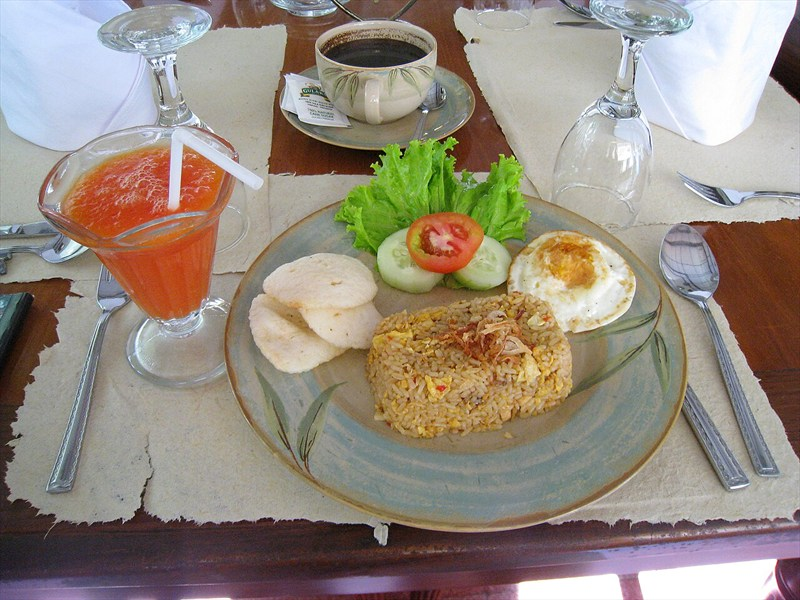Nasi Goreng: (57, 24, 763, 556)
